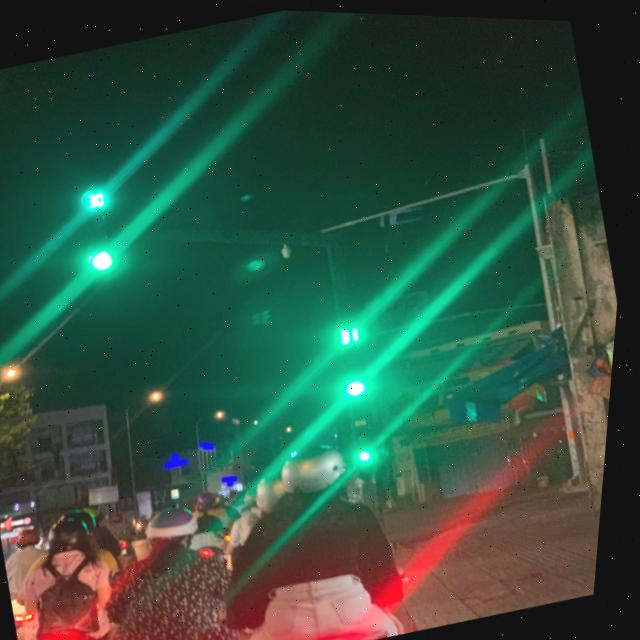Green: (81, 211, 138, 279), (337, 342, 382, 400), (356, 421, 388, 466)
